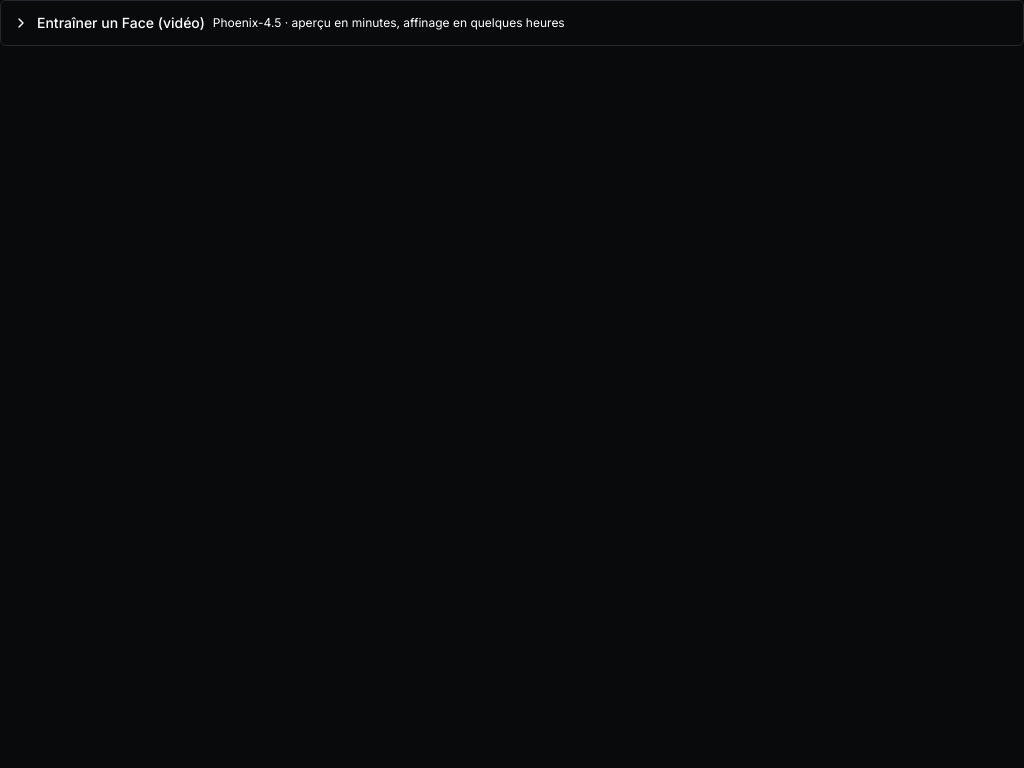
Test case: TavusFaceTrainer › refuses a link that is not https
Click the text "Entraîner un Face (vidéo)" at (121, 23), box [37, 13, 205, 33]
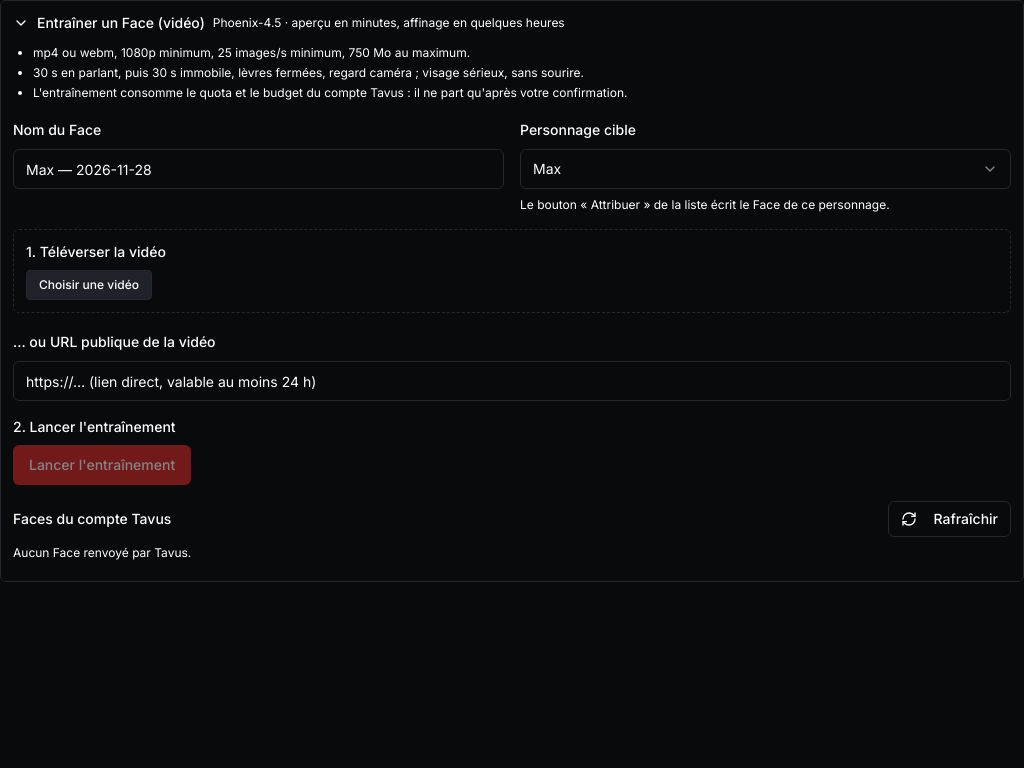
Type "http://cdn.example.com/v.mp4" into the field labelled "… ou URL publique de la vidéo" at (512, 381), box [13, 361, 1011, 401]
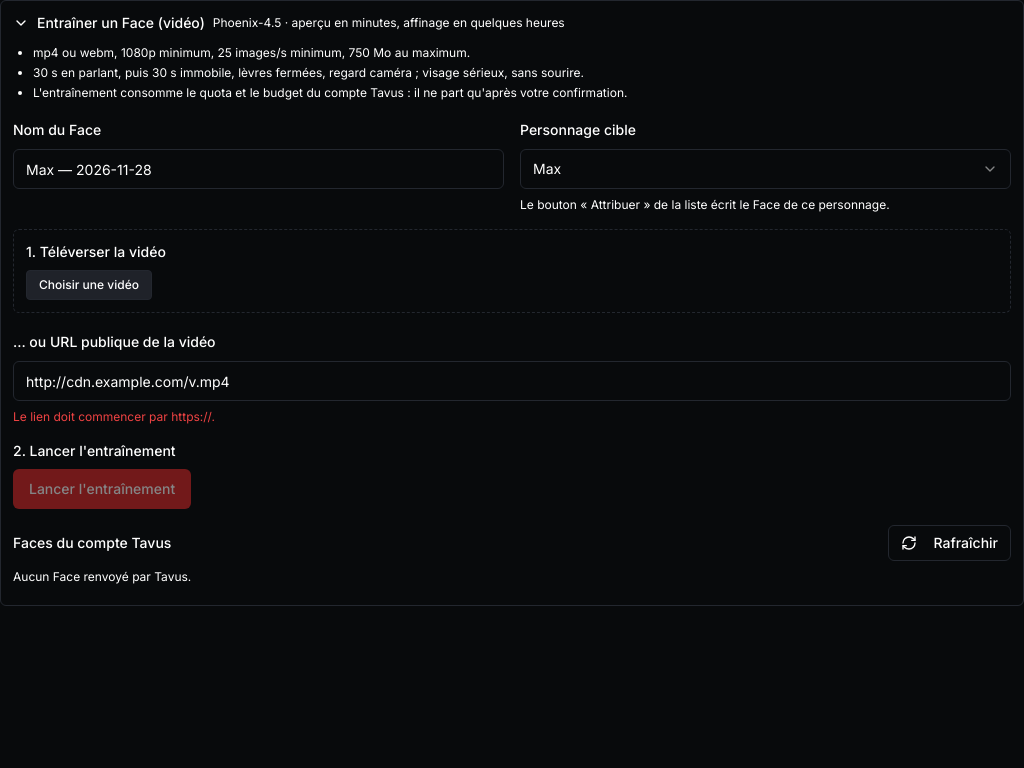
Expected: the button "Lancer l'entraînement" is disabled, [13, 469, 191, 509]
Expected: the text "Le lien doit commencer par https://." is shown, [13, 409, 215, 424]
